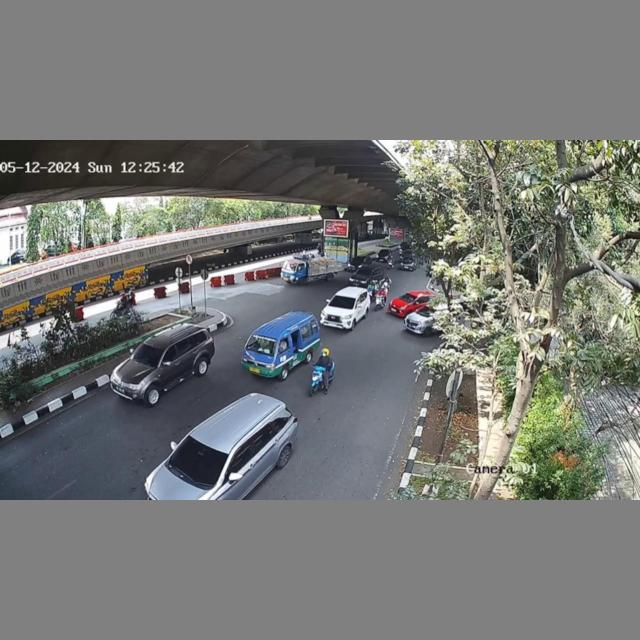windshield: (165, 437, 232, 478), (133, 342, 162, 367), (246, 333, 276, 357), (329, 294, 356, 308)
